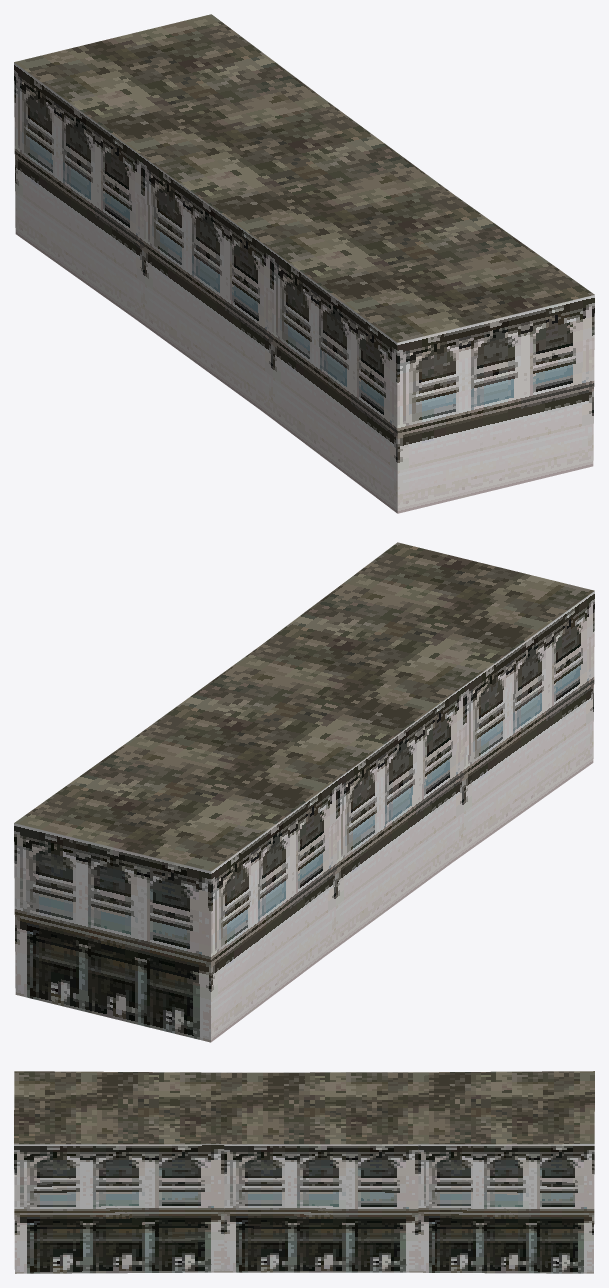
The model's file is lodens_10_sfs.obj.
3 views of the same model, one above another, from view 1: azimuth 30°, elevation 25°; view 2: azimuth 150°, elevation 25°; view 3: azimuth 270°, elevation 25° (orthographic). The views are drawn at different scales.
Visible parts, largest first — view 1: LODens_10_SFS; view 2: LODens_10_SFS; view 3: LODens_10_SFS.
Boxes of the visible parts, x1,y1,x2,y2 form: LODens_10_SFS: (14,14,594,513); LODens_10_SFS: (14,542,594,1042); LODens_10_SFS: (14,1071,594,1273).
Bounding box in the file's own units: 15.6 × 12.96 × 52.48.
Materials: 3 (3 with a texture image).
